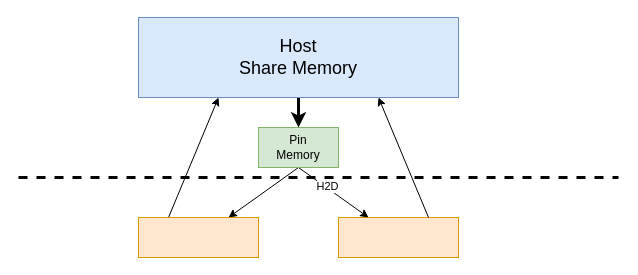
Image size: 638x275. Some labels were removed from this diagram. The centre of each missing label's shape, as x and y in pixels:
"Card 0 HBM" goes at point 198,237.
"Card 1 HBM" goes at point 398,237.
